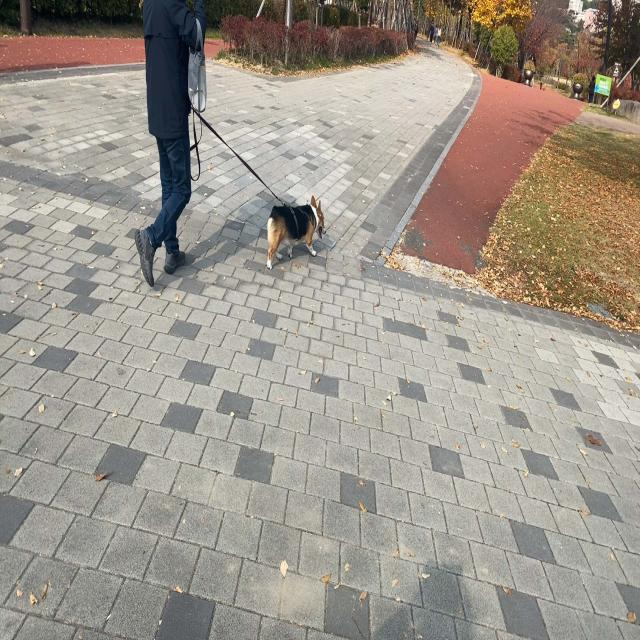Leashed_Dog: (164, 80, 327, 270)
